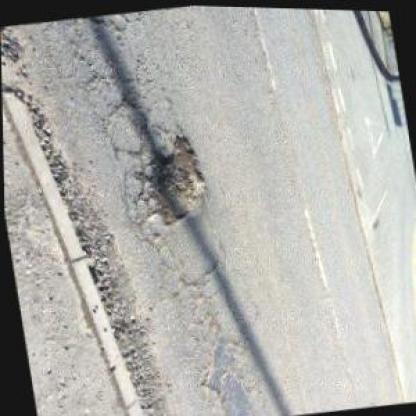pothole: (130, 126, 214, 233)
